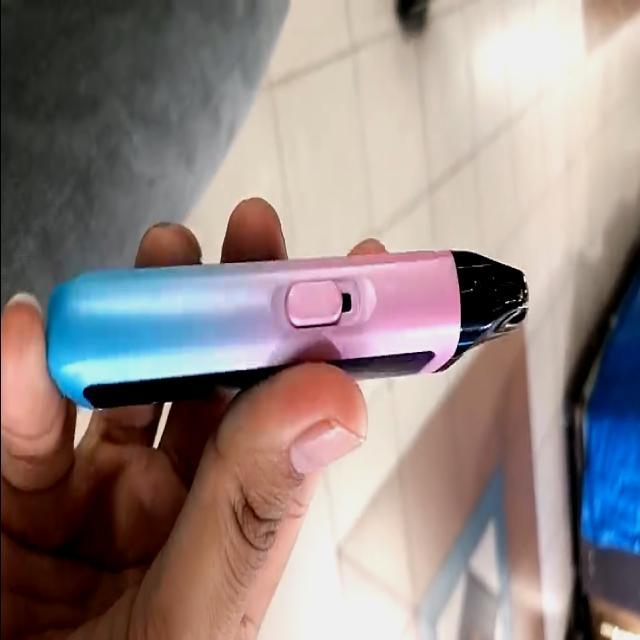Hazard: (48, 249, 530, 412)
